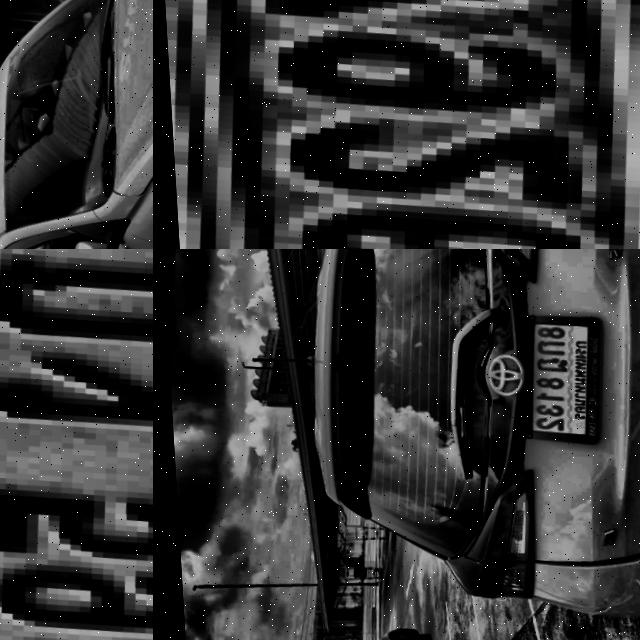license-plate: (153, 0, 640, 249), (0, 249, 153, 640), (502, 305, 607, 455)
